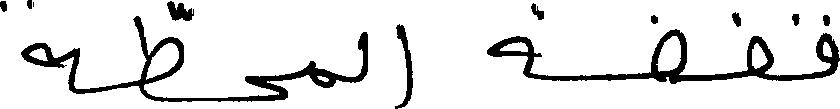X: (0, 0, 78, 98), (135, 0, 183, 106), (486, 0, 533, 82), (651, 10, 685, 88), (816, 10, 839, 82), (245, 69, 286, 106), (397, 19, 414, 108), (746, 31, 772, 85), (308, 56, 335, 92), (360, 27, 368, 85)
